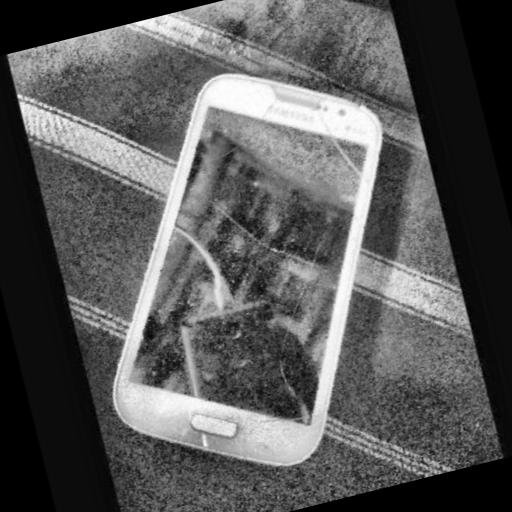phone: (106, 72, 388, 472)
